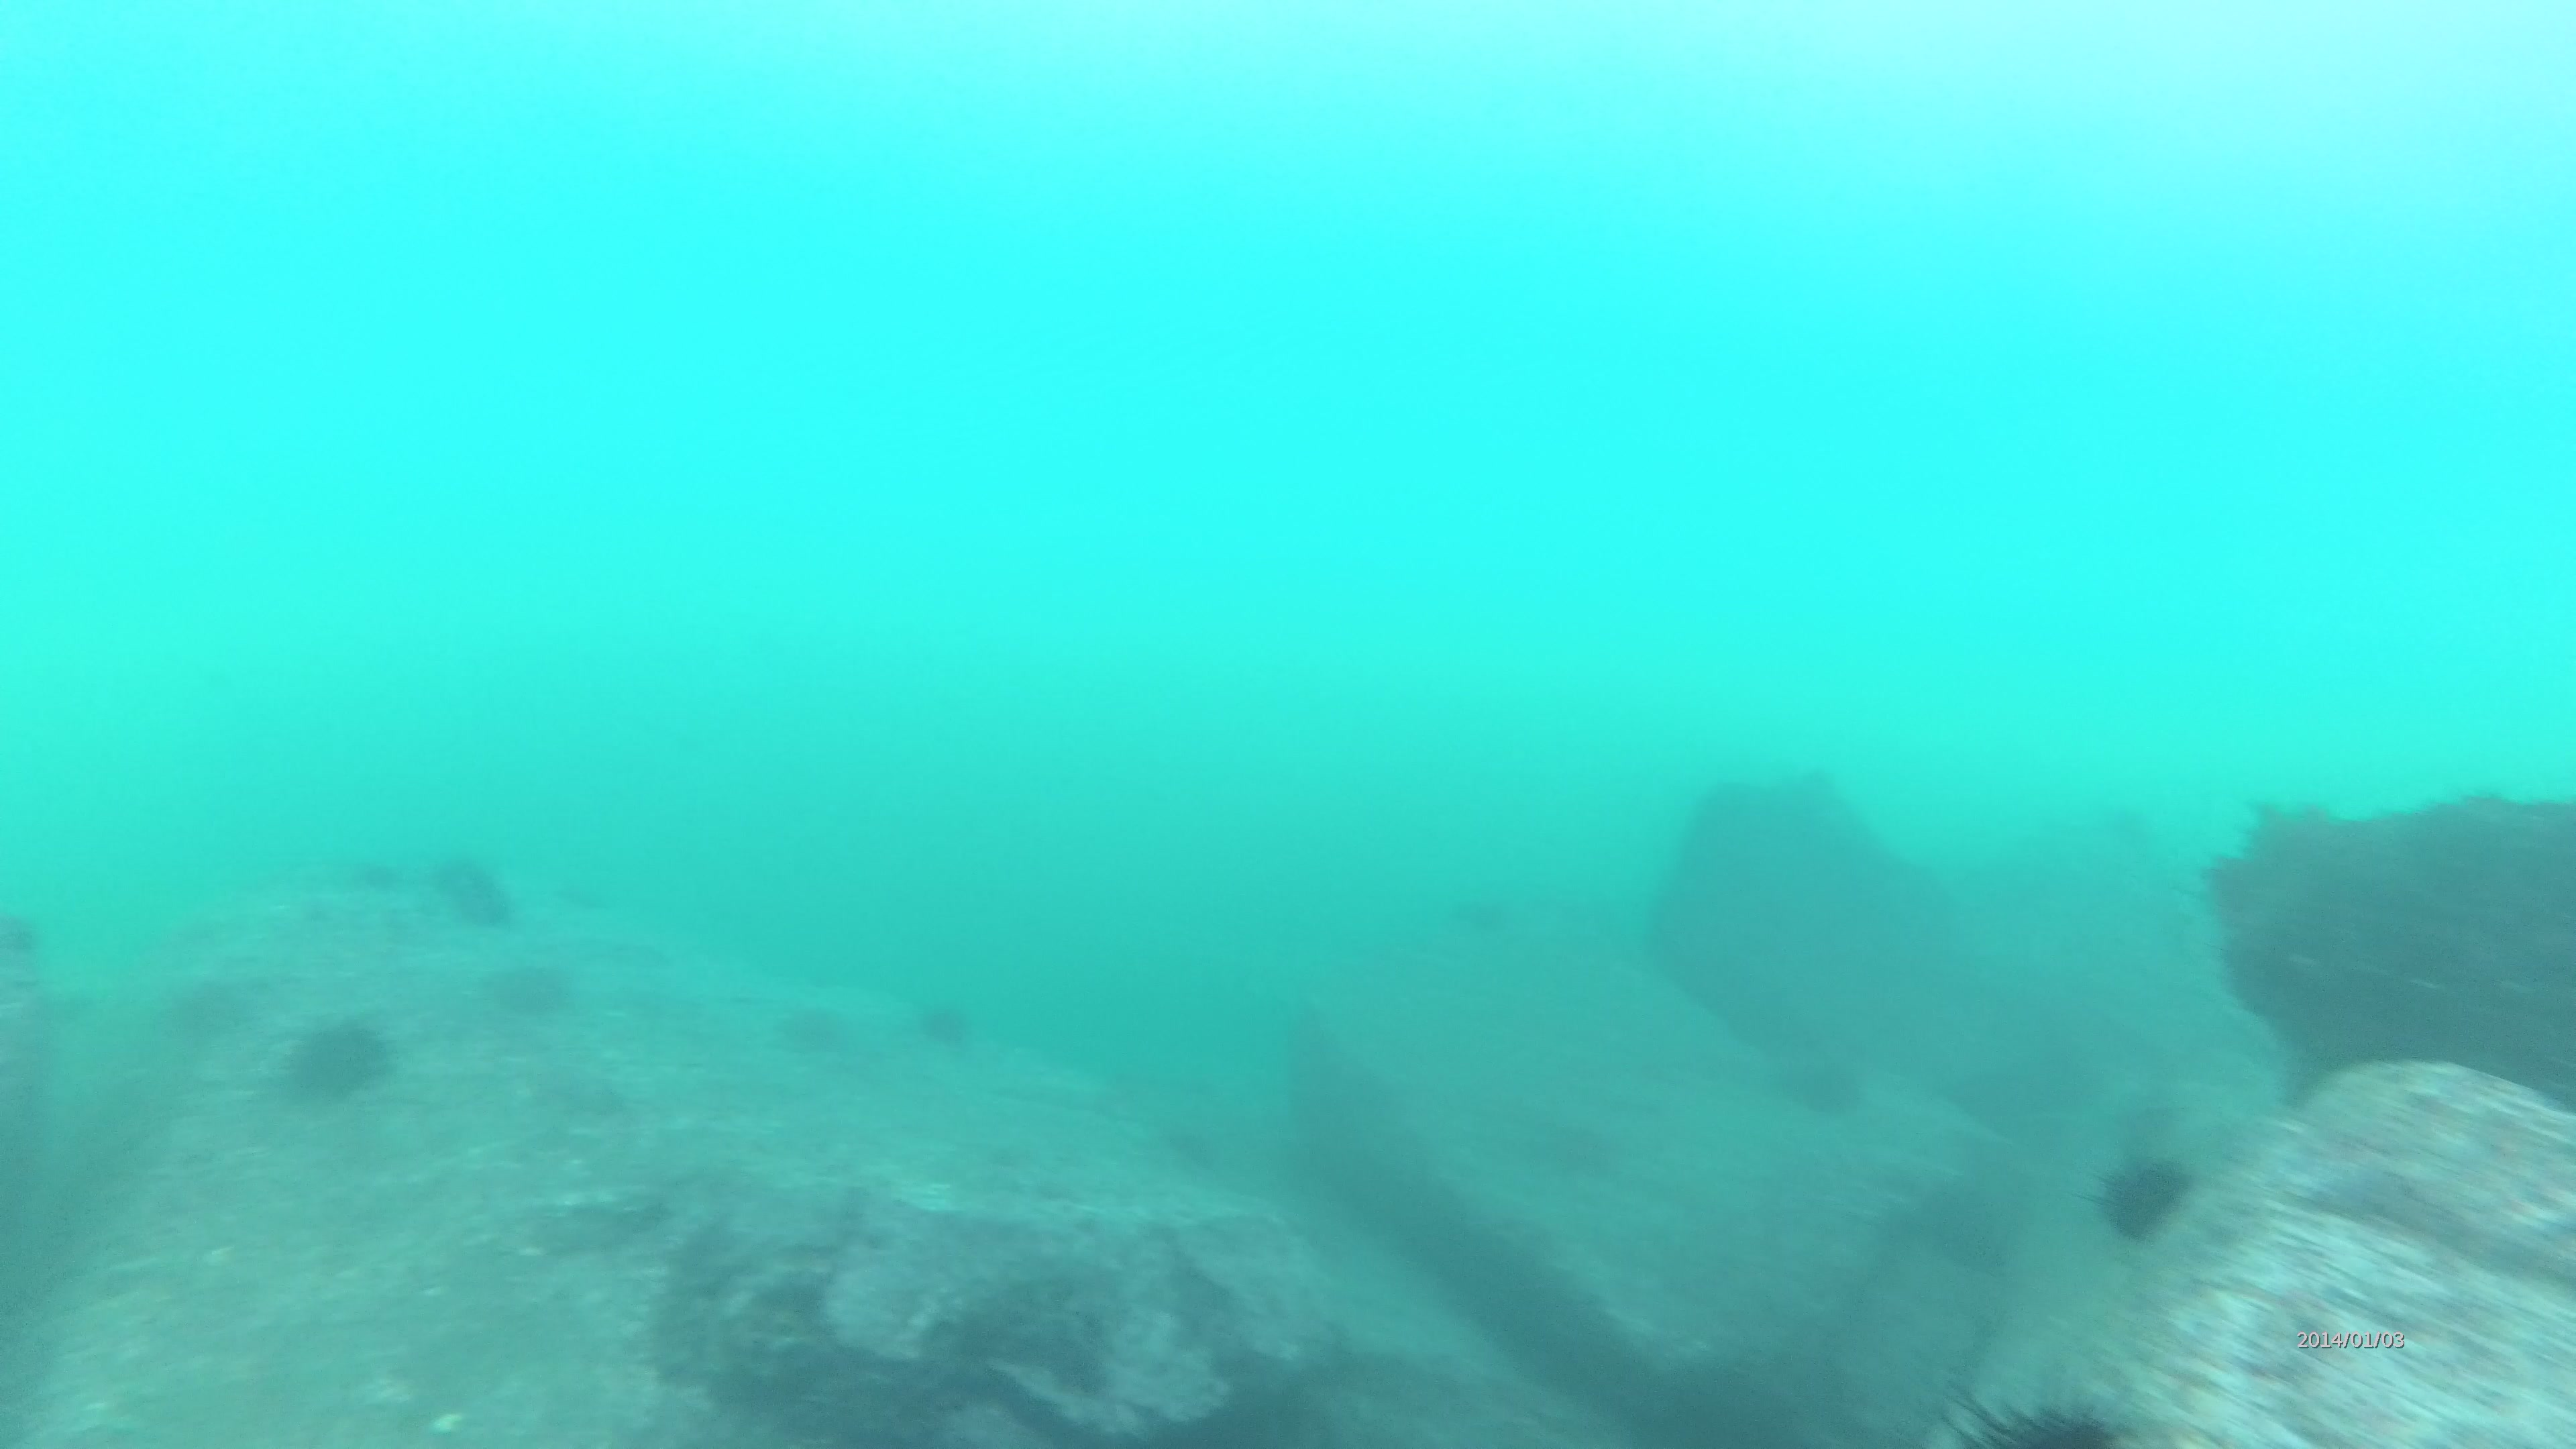echinus: (269, 1010, 393, 1116), (2089, 1146, 2203, 1242)
